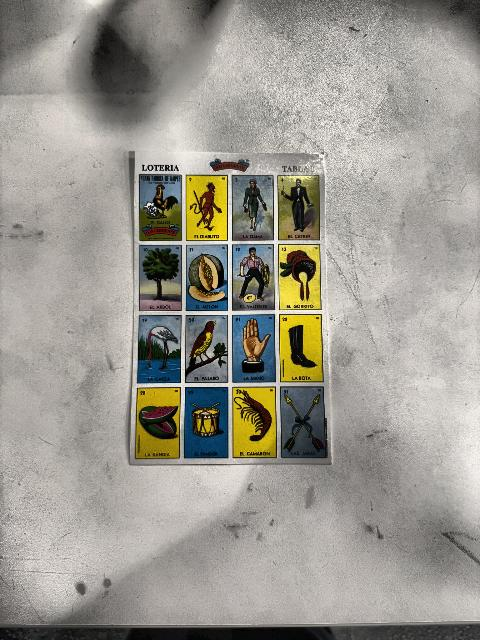El Arbol: (138, 244, 182, 311)
El Camaron: (233, 386, 277, 457)
El Catrin: (278, 175, 320, 241)
El Diablito: (186, 174, 228, 240)
El Gallo: (140, 174, 182, 241)
El Gorrito: (278, 245, 320, 310)
El Melon: (186, 245, 228, 311)
El Pajaro: (185, 315, 228, 382)
El Tambor: (185, 387, 228, 458)
El Valiente: (232, 244, 274, 311)
La Bota: (280, 314, 323, 382)
La Dama: (232, 175, 274, 240)
La Garza: (138, 315, 181, 383)
La Mano: (232, 315, 275, 382)
La Sandia: (136, 387, 181, 458)
Las Jaras: (281, 386, 326, 458)
Tabla 1: (130, 152, 330, 465)
